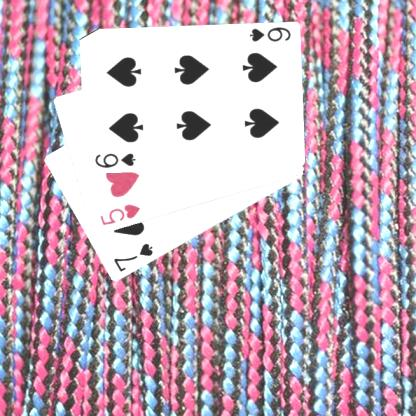5H: (97, 202, 141, 227)
6S: (246, 25, 292, 44), (92, 151, 136, 170)
7S: (110, 241, 154, 274)
